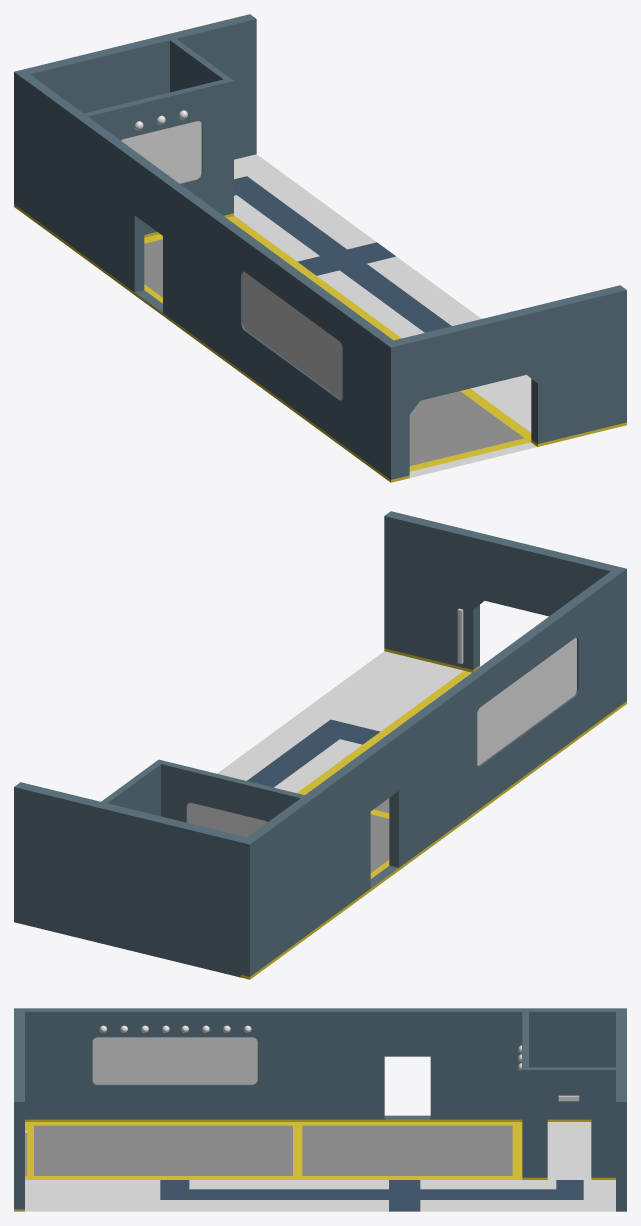
File: garage_reuv.fbx
3 renders of one model, top to bottom at view 1: azimuth 30°, elevation 25°; view 2: azimuth 150°, elevation 25°; view 3: azimuth 270°, elevation 25°, orthographic. The views are drawn at different scales.
Visible parts, largest first — view 1: Muro_Nord, Garage_Pavimento, Muro_Ovest, Muro_Est, Muretto_stanzino_lungo, Muretto_stanzino_corto; view 2: Muro_Nord, Muro_Est, Muro_Ovest, Garage_Pavimento, Muretto_stanzino_lungo, Muretto_stanzino_corto; view 3: Muro_Nord, Garage_Pavimento, Muretto_stanzino_corto, Muro_Est, Muro_Ovest, Muretto_stanzino_lungo, luci_garage_corretto.
Part boxes in pixels (<box>): Muro_Nord: <box>14,69,400,479</box>; Garage_Pavimento: <box>14,154,626,482</box>; Muro_Ovest: <box>394,285,626,477</box>; Muro_Est: <box>24,14,256,159</box>; Muretto_stanzino_lungo: <box>84,78,233,234</box>; Muretto_stanzino_corto: <box>170,38,229,92</box>; Muro_Nord: <box>240,566,626,976</box>; Muro_Est: <box>14,782,246,977</box>; Muro_Ovest: <box>384,511,616,669</box>; Garage_Pavimento: <box>217,648,626,979</box>; Muretto_stanzino_lungo: <box>155,759,304,837</box>; Muretto_stanzino_corto: <box>101,762,160,816</box>; Muro_Nord: <box>14,1008,626,1119</box>; Garage_Pavimento: <box>14,1119,615,1211</box>; Muretto_stanzino_corto: <box>529,1067,615,1177</box>; Muro_Est: <box>616,1012,626,1211</box>; Muro_Ovest: <box>14,1012,24,1209</box>; Muretto_stanzino_lungo: <box>522,1012,528,1177</box>; luci_garage_corretto: <box>25,1025,579,1175</box>.
Bounding box in the file's own units: 346 × 189 × 956.
